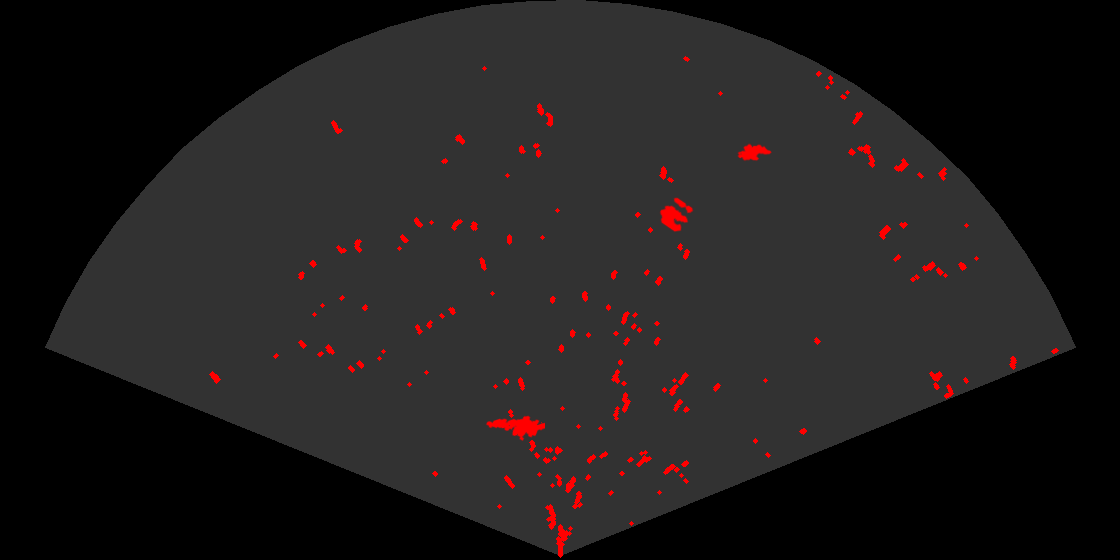AUV: (736, 142, 773, 163)
ball: (658, 196, 695, 234)
frogman: (484, 414, 545, 443)
